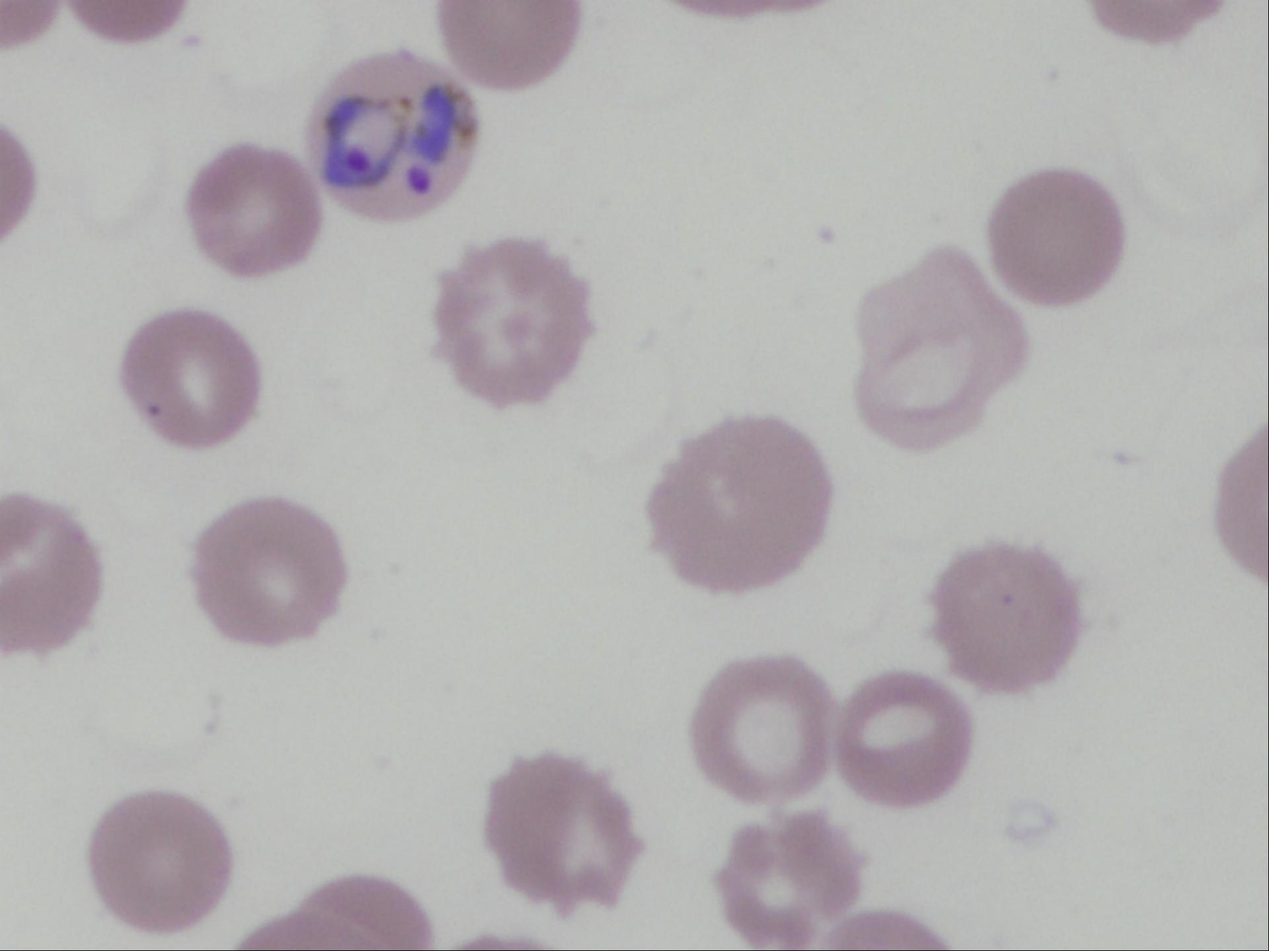Infected: (304, 49, 483, 226)
Uninfected: (849, 248, 1027, 449), (648, 415, 831, 593), (436, 241, 598, 406), (482, 752, 639, 913), (192, 497, 344, 645), (929, 543, 1081, 689), (691, 656, 834, 805), (87, 792, 230, 932), (120, 309, 260, 447), (714, 814, 860, 946), (991, 167, 1126, 301), (836, 675, 970, 809), (188, 145, 319, 273), (2, 494, 104, 652), (442, 1, 577, 85)
